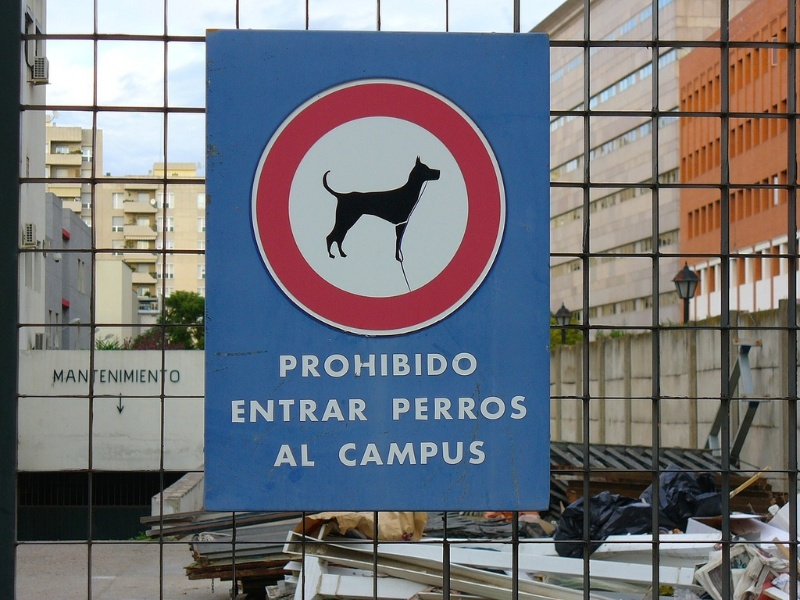animal_ahead: (265, 78, 493, 302)
